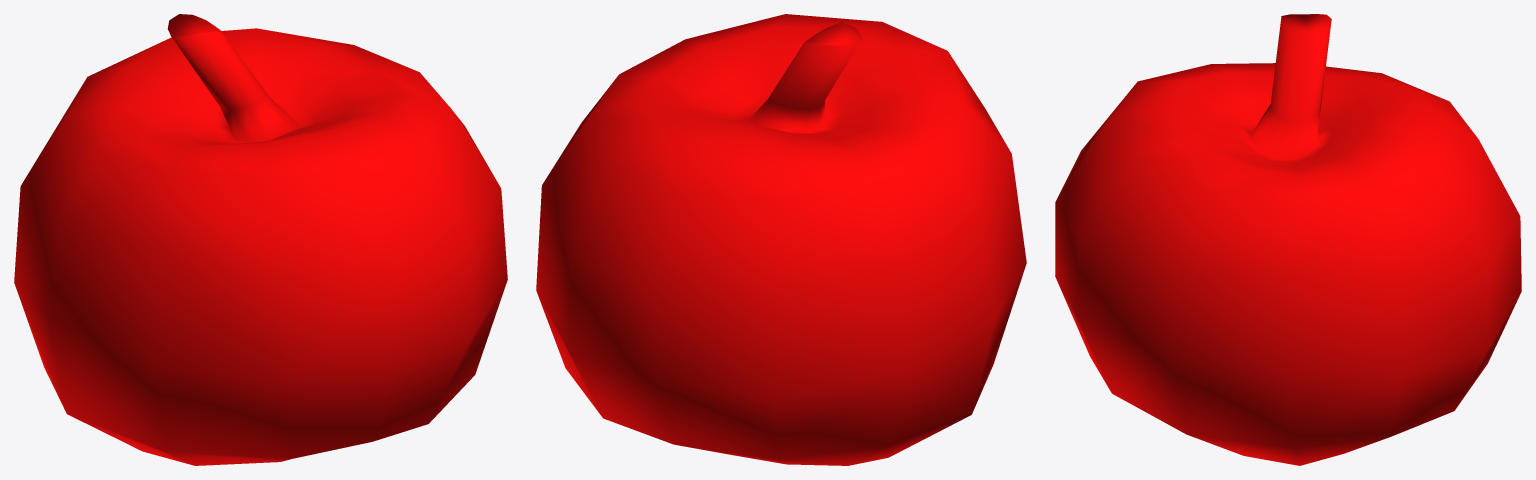
The model's file is apple.fbx.
3 renders of one model, left to right at view 1: azimuth 30°, elevation 25°; view 2: azimuth 150°, elevation 25°; view 3: azimuth 270°, elevation 25°, orthographic. The views are drawn at different scales.
Visible parts, largest first — view 1: BSurfaceMesh; view 2: BSurfaceMesh; view 3: BSurfaceMesh.
Part boxes in pixels (x1=…): BSurfaceMesh: x1=14, y1=14, x2=507, y2=465; BSurfaceMesh: x1=536, y1=14, x2=1026, y2=465; BSurfaceMesh: x1=1055, y1=14, x2=1521, y2=465.
Size of the model in its own units: 317 by 295 by 333.
